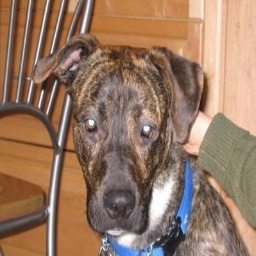dog: (35, 34, 245, 256)
